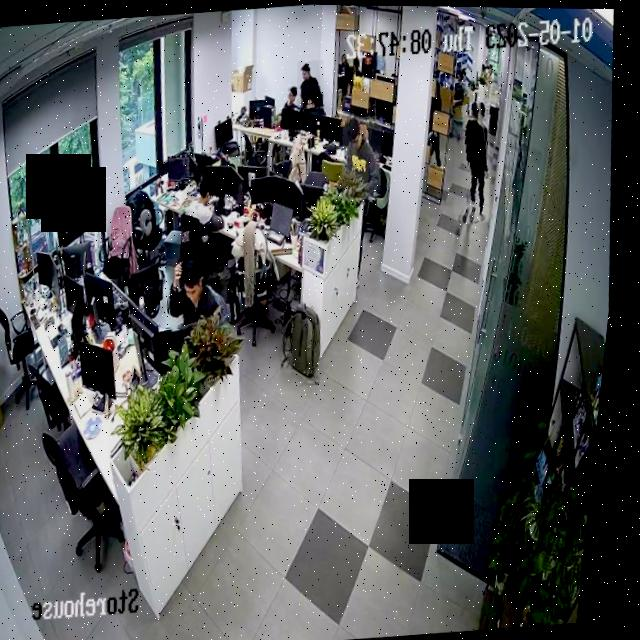person: (447, 98, 502, 223), (166, 253, 242, 331), (338, 113, 391, 201), (181, 170, 234, 233), (294, 58, 329, 112), (277, 83, 309, 130)
